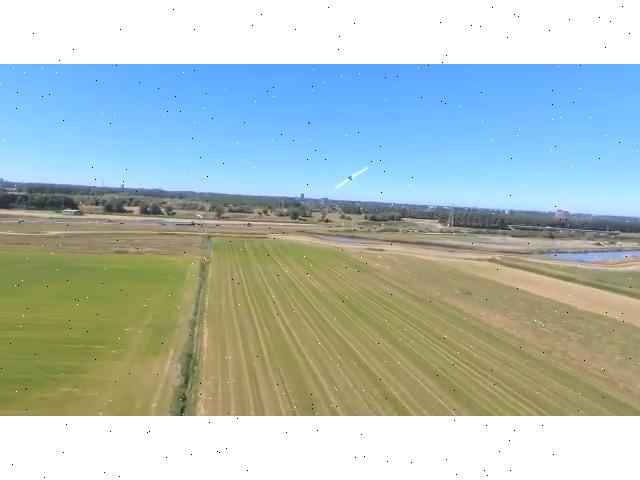Anti-Drone: (322, 160, 390, 197)
